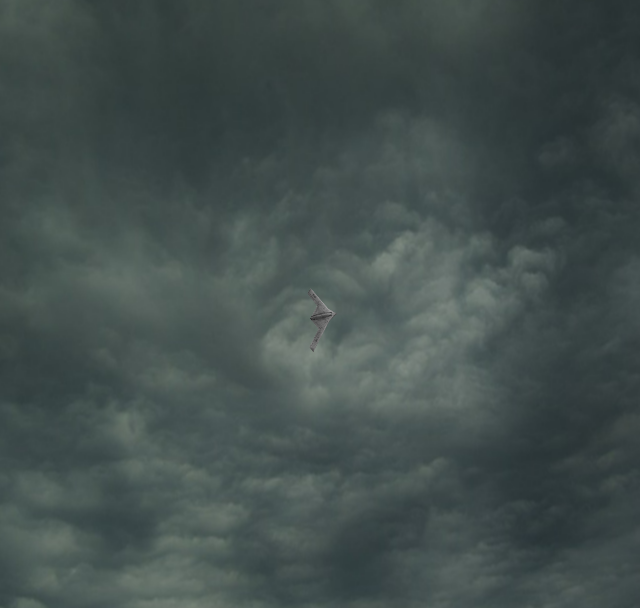military drone: (307, 288, 336, 353)
